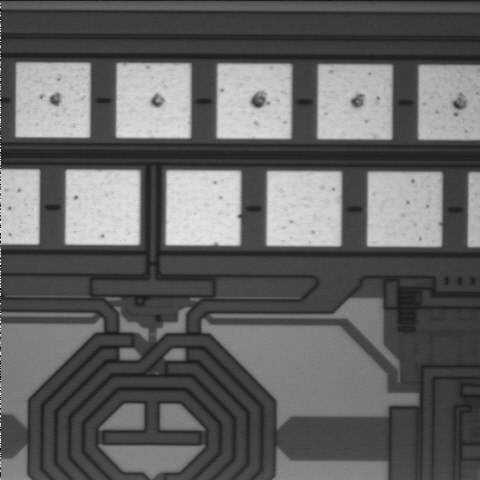pad: (65, 170, 140, 245), (217, 64, 291, 139), (166, 171, 241, 245), (267, 171, 341, 246), (16, 63, 90, 137), (116, 64, 190, 138), (367, 172, 441, 246), (318, 65, 391, 139)
